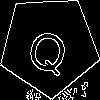Q: (24, 20, 73, 78)
